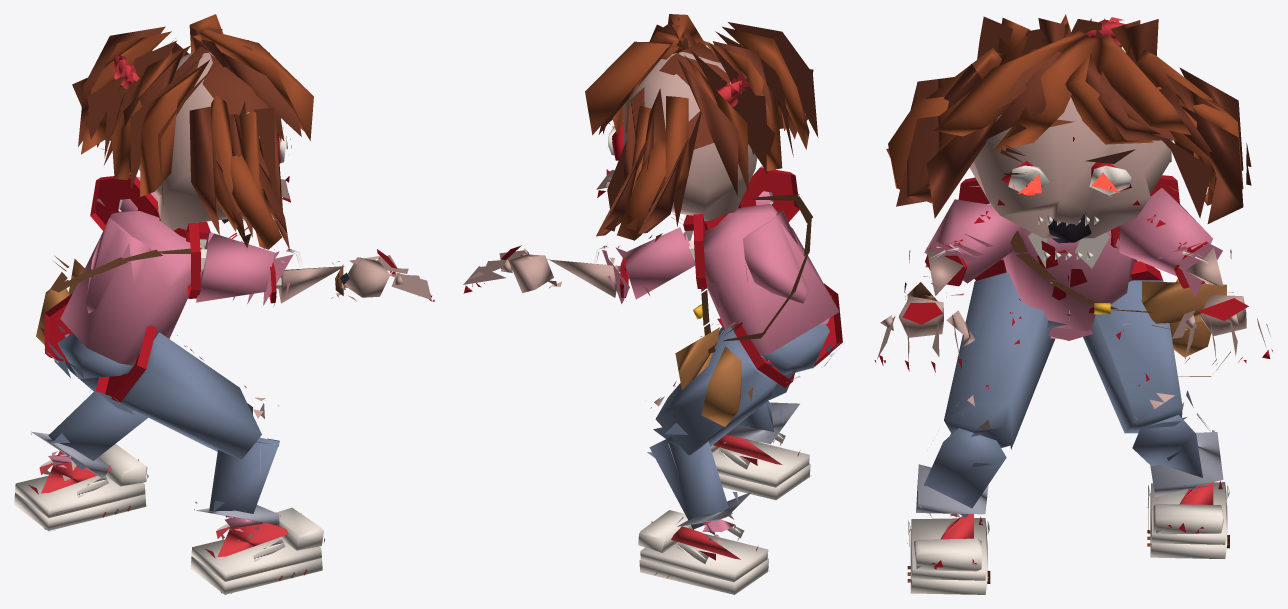
3 views of the same model, side by side, from view 1: azimuth 30°, elevation 25°; view 2: azimuth 150°, elevation 25°; view 3: azimuth 270°, elevation 25° (orthographic). The views are drawn at different scales.
Visible parts, largest first — view 1: head, torso, legR, footR, footL, armR, shinL, shinR, hip, handR, stump_armL, foreArmR (+4 smaller); view 2: head, torso, footL, legL, hip, footR, shinL, armL, handL, stump_armR, shinR, foreArmL (+3 smaller); view 3: head, legR, torso, legL, footR, footL, shinR, armL, shinL, armR, hip, handR (+5 smaller).
Part boxes in pixels (<box>): head: <box>72,14,313,249</box>; torso: <box>50,211,206,365</box>; legR: <box>96,332,278,459</box>; footR: <box>190,507,324,594</box>; footL: <box>14,444,148,531</box>; armR: <box>196,232,302,307</box>; shinL: <box>31,390,148,477</box>; shinR: <box>194,437,280,525</box>; hip: <box>36,255,133,378</box>; handR: <box>345,249,434,301</box>; stump_armL: <box>90,174,158,230</box>; foreArmR: <box>278,260,350,303</box>; head: <box>585,14,818,241</box>; torso: <box>683,194,839,355</box>; footL: <box>638,510,769,594</box>; legL: <box>650,327,800,455</box>; hip: <box>674,321,832,430</box>; footR: <box>710,432,811,500</box>; shinL: <box>647,427,752,536</box>; armL: <box>593,227,703,303</box>; handL: <box>463,245,553,293</box>; stump_armR: <box>738,167,799,221</box>; shinR: <box>724,400,799,444</box>; foreArmL: <box>547,257,620,297</box>; head: <box>886,14,1251,262</box>; legR: <box>944,272,1054,447</box>; torso: <box>1003,227,1179,340</box>; legL: <box>1083,280,1193,433</box>; footR: <box>907,513,990,594</box>; footL: <box>1146,480,1229,558</box>; shinR: <box>916,428,1012,523</box>; armL: <box>1115,187,1231,297</box>; shinL: <box>1132,413,1225,496</box>; armR: <box>909,186,1023,295</box>; hip: <box>1047,278,1230,376</box>; handR: <box>874,295,974,372</box>.
Bounding box in the file's own units: 1.08 × 1.79 × 1.19.
